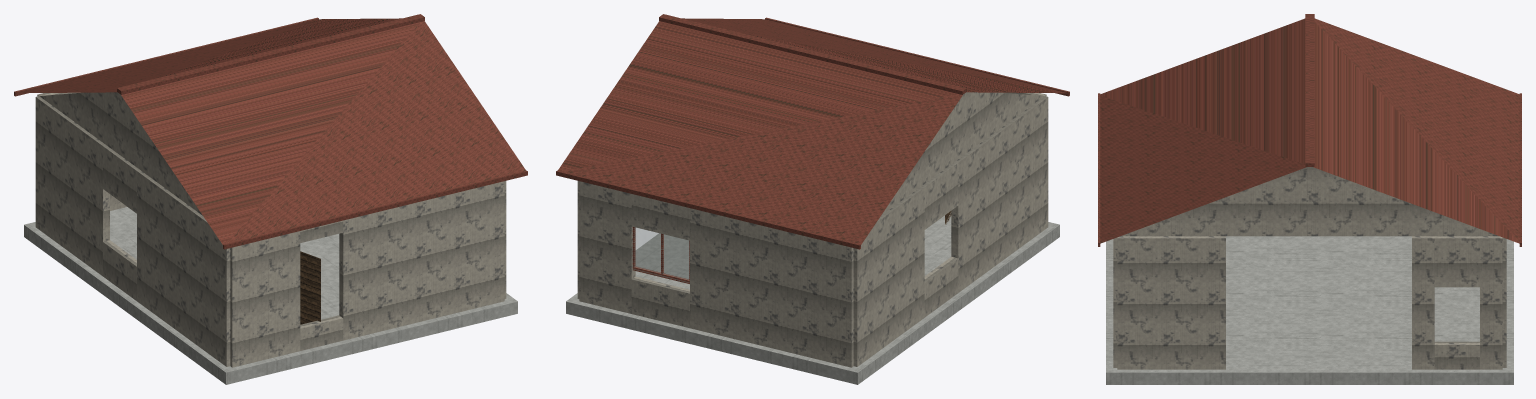
The model's file is building.house.old.glb.
The picture shows the model from 3 angles, left to right: view 1: azimuth 30°, elevation 25°; view 2: azimuth 150°, elevation 25°; view 3: azimuth 270°, elevation 25°; orthographic projection.
Parts seen in each view (by area): view 1: building.house.old; view 2: building.house.old; view 3: building.house.old.
Part boxes in pixels (x1=…): building.house.old: x1=14, y1=14, x2=527, y2=384; building.house.old: x1=556, y1=14, x2=1069, y2=384; building.house.old: x1=1098, y1=14, x2=1521, y2=384.
Size of the model in its own units: 7.8 by 5.46 by 9.35.
6 materials, 6 textured.
